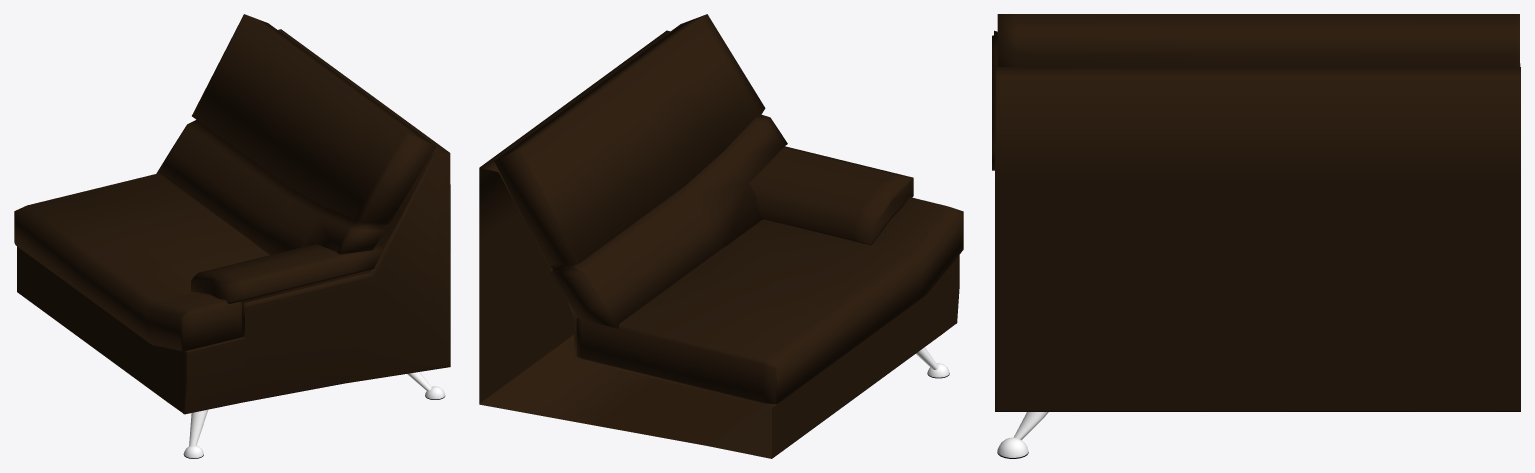
File: couch.gltf
3 views of the same model, side by side, from view 1: azimuth 30°, elevation 25°; view 2: azimuth 150°, elevation 25°; view 3: azimuth 270°, elevation 25° (orthographic). The views are drawn at different scales.
Parts seen in each view (by area): view 1: sofa-base, espaldar sofa, sofa-cojin, sofa-brazos; view 2: espaldar sofa, sofa-cojin, sofa-base, sofa-brazos; view 3: sofa-base, espaldar sofa.
Boxes of the visible parts, x1,y1,x2,y2 form: sofa-base: [17, 29, 450, 458]; espaldar sofa: [156, 14, 436, 254]; sofa-cojin: [14, 173, 269, 351]; sofa-brazos: [191, 244, 383, 303]; espaldar sofa: [494, 14, 787, 328]; sofa-cojin: [576, 197, 963, 403]; sofa-base: [479, 30, 959, 458]; sofa-brazos: [749, 146, 913, 245]; sofa-base: [995, 67, 1520, 458]; espaldar sofa: [997, 14, 1519, 66].
Bounding box in the file's own units: 0.911 × 0.8756 × 1.01.
